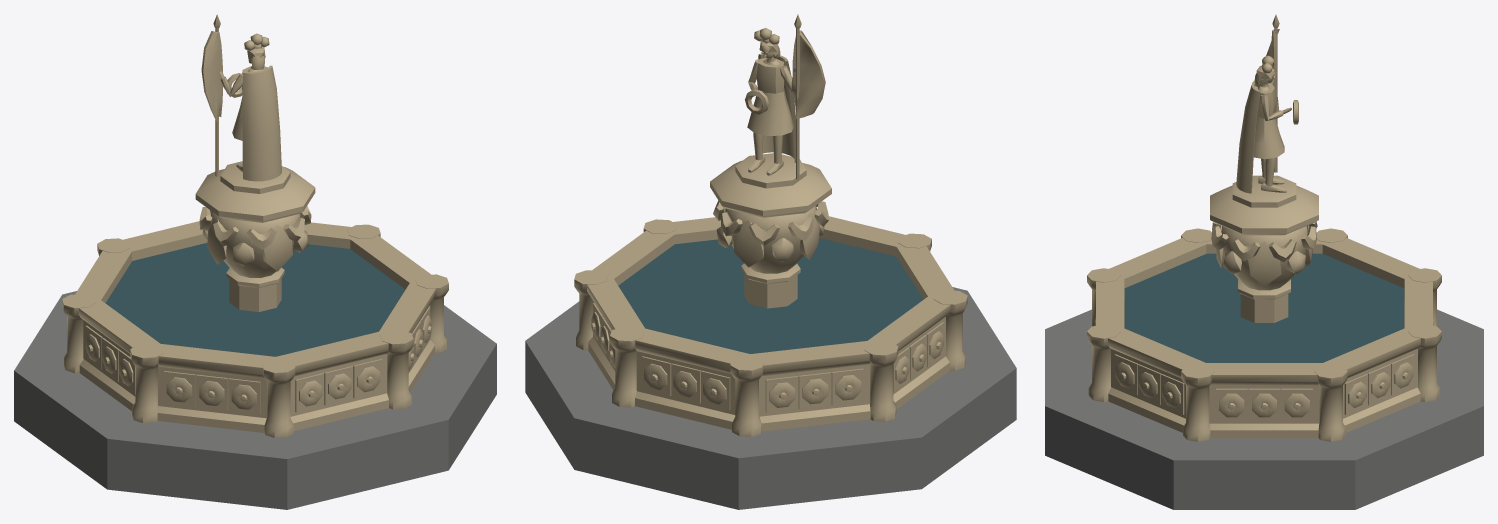
The model's file is mon_friedensbrunnen.glb.
3 renders of one model, left to right at view 1: azimuth 30°, elevation 25°; view 2: azimuth 150°, elevation 25°; view 3: azimuth 270°, elevation 25°, orthographic. The views are drawn at different scales.
Parts seen in each view (by area): view 1: mon_friedensbrunnen; view 2: mon_friedensbrunnen; view 3: mon_friedensbrunnen.
Part boxes in pixels (x1=…): mon_friedensbrunnen: x1=14, y1=14, x2=496, y2=509; mon_friedensbrunnen: x1=525, y1=14, x2=1016, y2=509; mon_friedensbrunnen: x1=1045, y1=14, x2=1483, y2=509.
Bounding box in the file's own units: 6.1 × 5.95 × 6.1.
